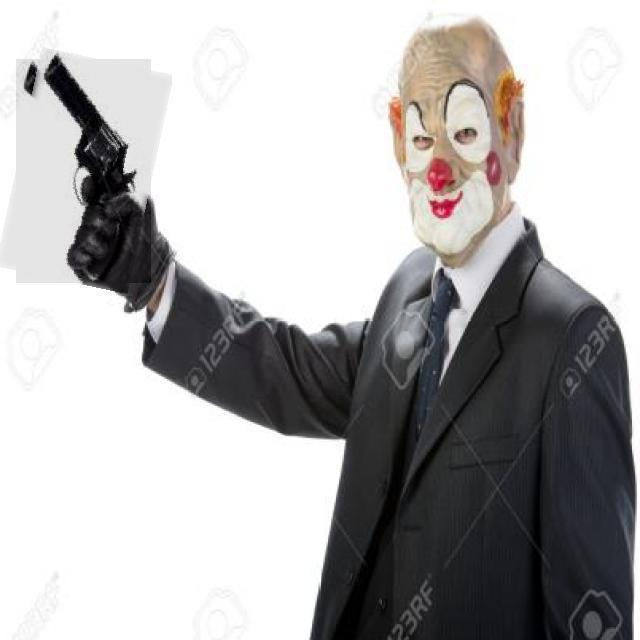Handgun: (5, 53, 162, 289)
